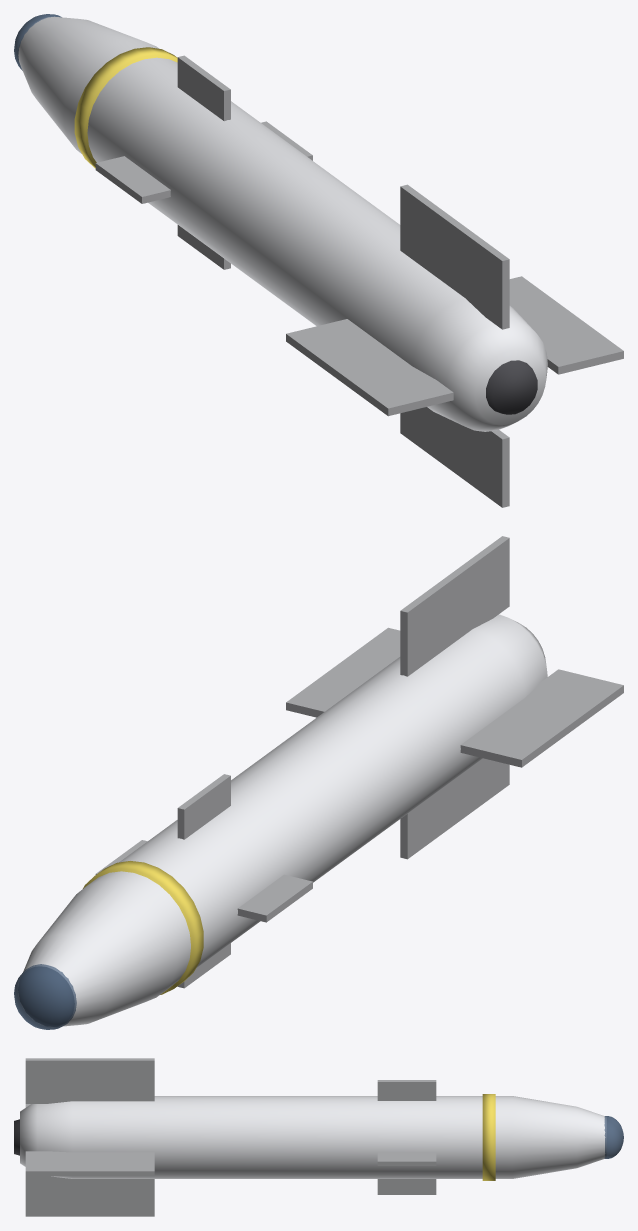
File: missile.glb
3 views of the same model, one above another, from view 1: azimuth 30°, elevation 25°; view 2: azimuth 150°, elevation 25°; view 3: azimuth 270°, elevation 25° (orthographic). The views are drawn at different scales.
Parts seen in each view (by area): view 1: missile; view 2: missile; view 3: missile.
Part boxes in pixels (x1,y1,x2,y2): missile: [14, 14, 623, 507]; missile: [14, 536, 623, 1029]; missile: [14, 1058, 623, 1216].
Size of the model in its own units: 0.7038 by 0.7038 by 2.5.
